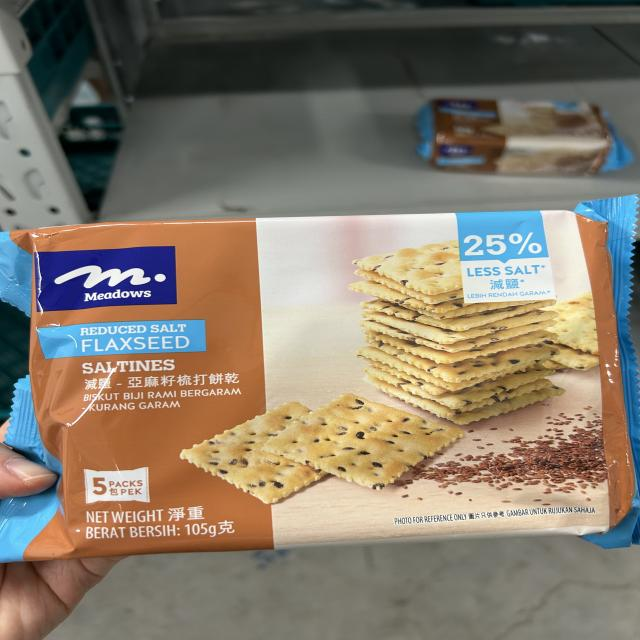object_name: (24, 234, 633, 540)
